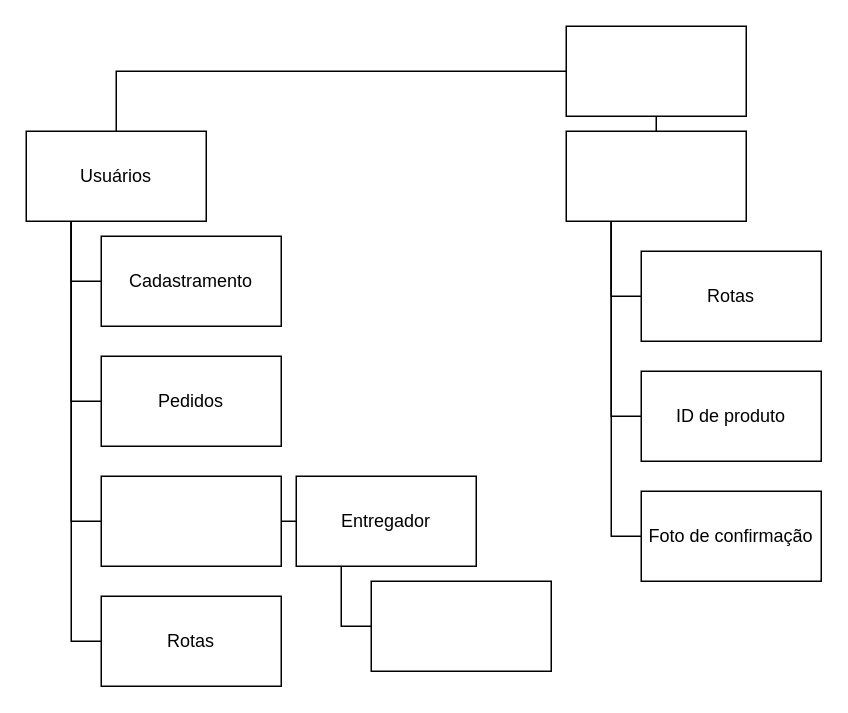
This 848x713 diagram has some shape labels left out. Each missing label, with the centre of its shape:
"Entrega" goes at (655,175).
"Histórico" goes at (460,625).
"Software para entregas via transporte público" goes at (655,70).
"Status" goes at (190,520).
